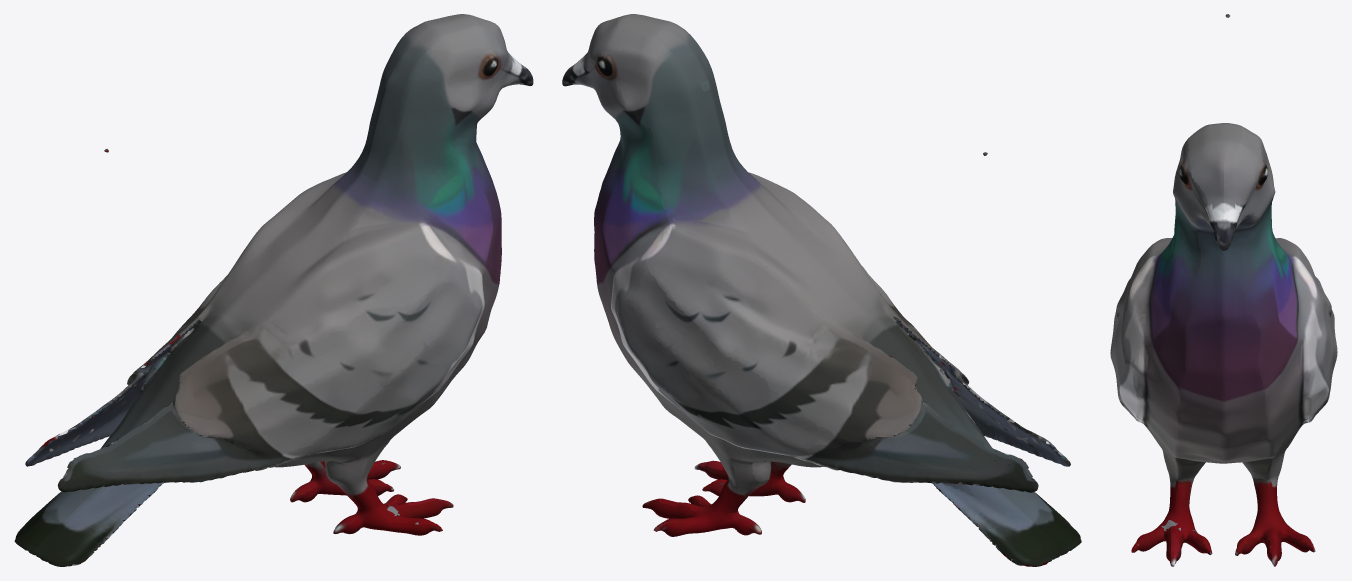
File: pomp.glb
3 views of the same model, side by side, from view 1: azimuth 30°, elevation 25°; view 2: azimuth 150°, elevation 25°; view 3: azimuth 270°, elevation 25° (orthographic). The views are drawn at different scales.
Parts seen in each view (by area): view 1: tmp77pr53_o.ply; view 2: tmp77pr53_o.ply; view 3: tmp77pr53_o.ply.
Boxes of the visible parts, bbox=[...] form: tmp77pr53_o.ply: bbox=[14, 14, 533, 566]; tmp77pr53_o.ply: bbox=[562, 14, 1081, 566]; tmp77pr53_o.ply: bbox=[1110, 14, 1337, 566].
Size of the model in its own units: 1.96 by 1.71 by 0.7752.
1 material, 1 textured.
